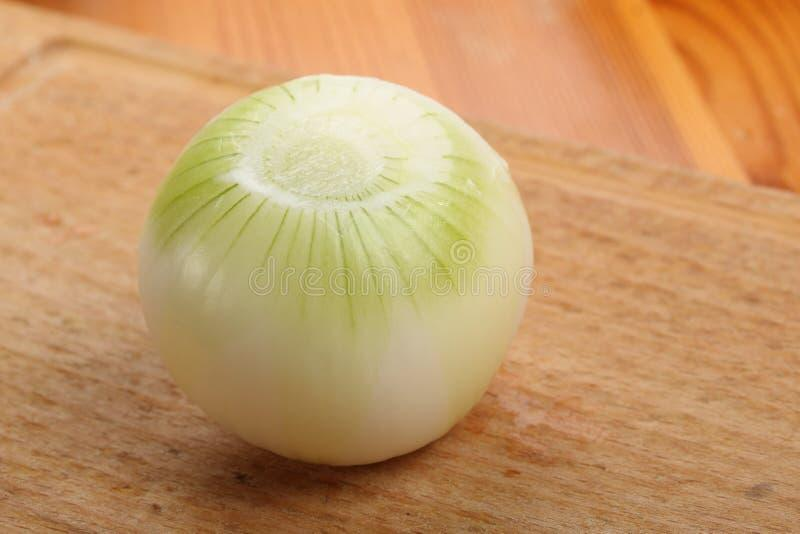Onion: (139, 75, 534, 465)
